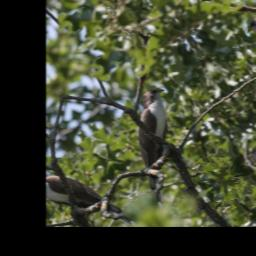Cuckoo: (95, 82, 220, 210)
